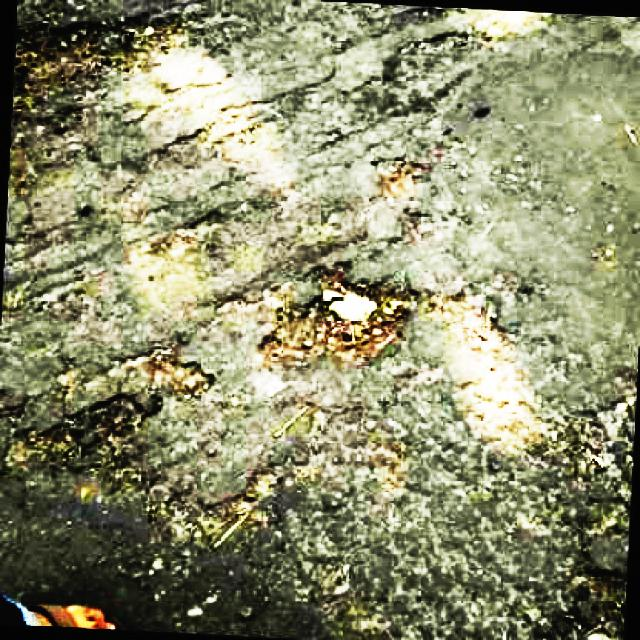pothole: (0, 11, 197, 129), (260, 278, 425, 360), (12, 388, 156, 470), (370, 149, 424, 200)
